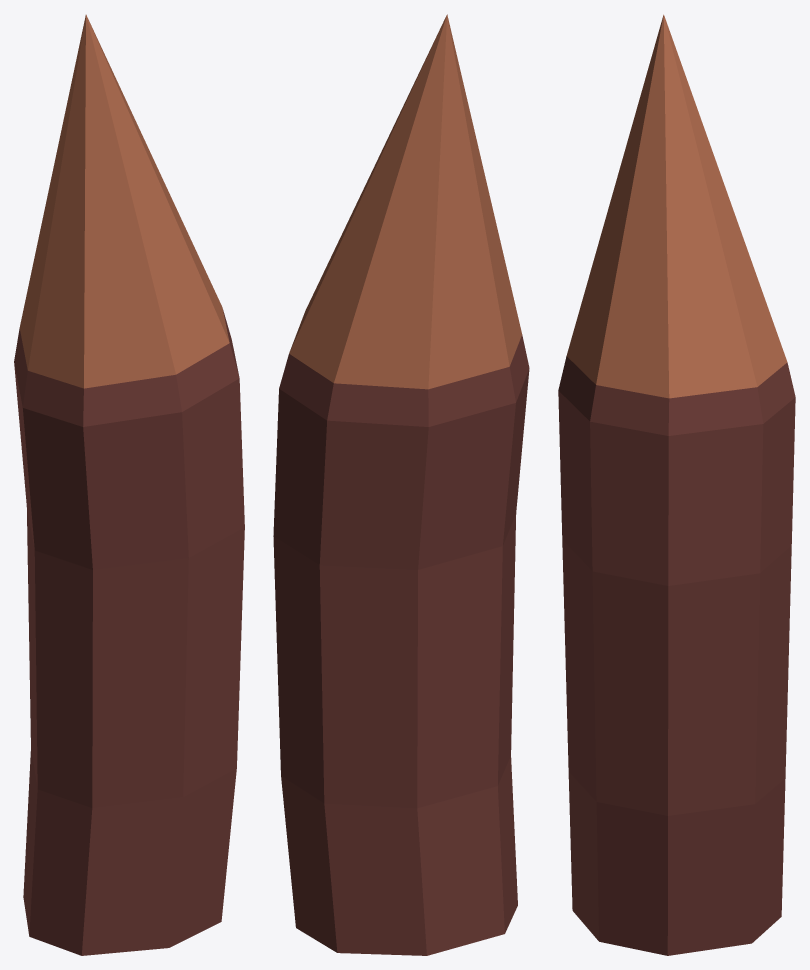
File: Wooden Pole Sharp 04.fbx
3 renders of one model, left to right at view 1: azimuth 30°, elevation 25°; view 2: azimuth 150°, elevation 25°; view 3: azimuth 270°, elevation 25°, orthographic. The views are drawn at different scales.
Parts seen in each view (by area): view 1: Wooden Pole Sharp 04; view 2: Wooden Pole Sharp 04; view 3: Wooden Pole Sharp 04.
Part boxes in pixels (box(x1,y1,x2,y2)): Wooden Pole Sharp 04: box(14, 14, 244, 955); Wooden Pole Sharp 04: box(273, 14, 529, 955); Wooden Pole Sharp 04: box(558, 14, 795, 955).
Bounding box in the file's own units: 31.39 × 124 × 30.25.
